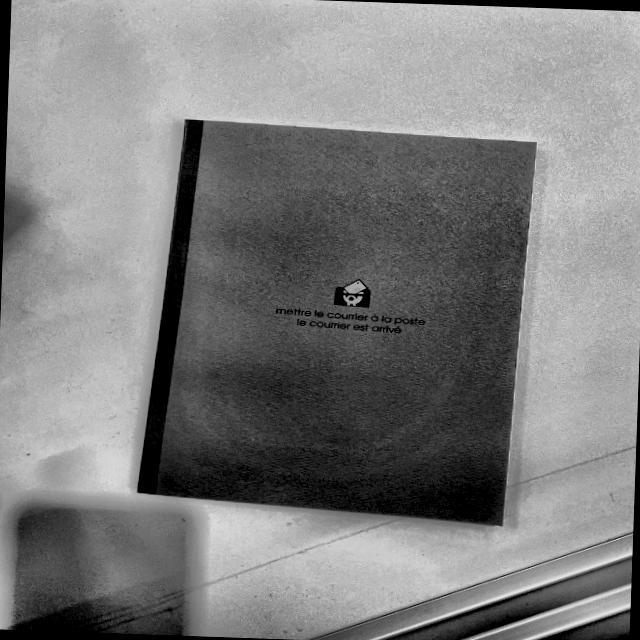Notebook: (107, 97, 551, 540)
